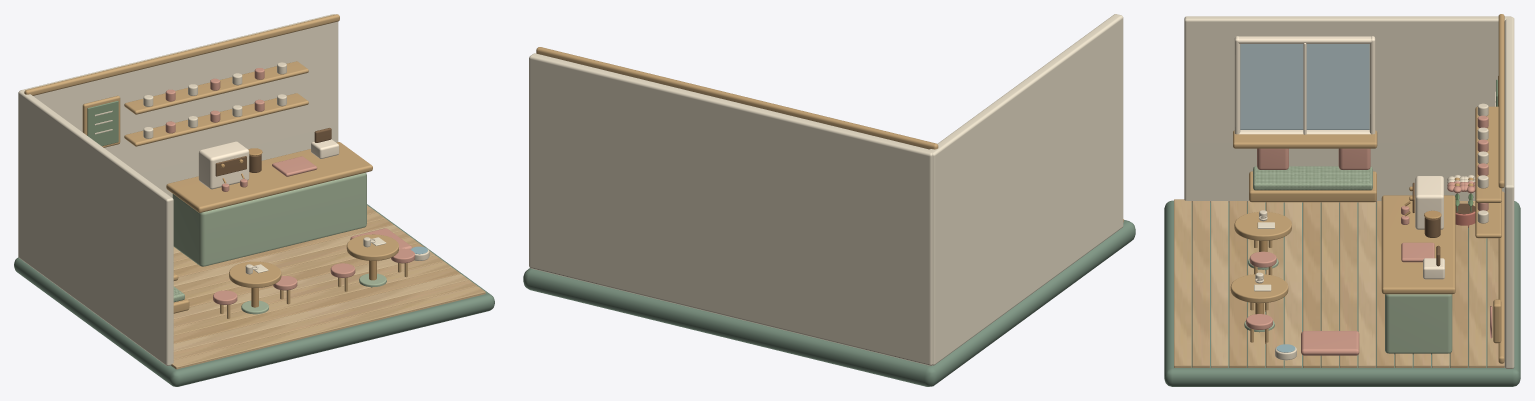
Rendered from cafe.glb.
The picture shows the model from 3 angles, left to right: view 1: azimuth 30°, elevation 25°; view 2: azimuth 150°, elevation 25°; view 3: azimuth 270°, elevation 25°; orthographic projection. The views are drawn at different scales.
Parts seen in each view (by area): view 1: shell--奶油墙面, bar--沙发鼠尾草绿, shell--地台侧面, shell--木地板0, shell--木地板1, shell--木地板2, bar--浅橡木, shell--木地板3, shelves--浅橡木, shell--浅橡木, tables--浅橡木, bar--米白木框 (+7 smaller); view 2: shell--奶油墙面, shell--地台侧面, shell--浅橡木; view 3: shell--奶油墙面, shell--地台侧面, window--窗外蓝, shell--木地板0, shell--木地板1, shell--木地板2, shell--木地板3, bar--浅橡木, bar--沙发鼠尾草绿, window--浅橡木, window--米白木框, tables--浅橡木 (+12 smaller).
Part boxes in pixels (x1=…): shell--奶油墙面: x1=18, y1=14, x2=338, y2=365; bar--沙发鼠尾草绿: x1=172, y1=172, x2=366, y2=266; shell--地台侧面: x1=14, y1=204, x2=494, y2=386; shell--木地板0: x1=171, y1=212, x2=485, y2=369; shell--木地板1: x1=173, y1=206, x2=476, y2=359; shell--木地板2: x1=173, y1=205, x2=468, y2=351; bar--浅橡木: x1=166, y1=142, x2=372, y2=212; shell--木地板3: x1=173, y1=218, x2=460, y2=343; shelves--浅橡木: x1=82, y1=61, x2=308, y2=147; shell--浅橡木: x1=24, y1=14, x2=339, y2=95; tables--浅橡木: x1=220, y1=234, x2=407, y2=318; bar--米白木框: x1=198, y1=139, x2=339, y2=189; shell--奶油墙面: x1=529, y1=14, x2=1123, y2=365; shell--地台侧面: x1=523, y1=220, x2=1135, y2=386; shell--浅橡木: x1=536, y1=47, x2=938, y2=149; shell--奶油墙面: x1=1184, y1=16, x2=1514, y2=368; shell--地台侧面: x1=1164, y1=200, x2=1520, y2=386; window--窗外蓝: x1=1240, y1=44, x2=1369, y2=129; shell--木地板0: x1=1174, y1=199, x2=1486, y2=367; shell--木地板1: x1=1192, y1=201, x2=1504, y2=367; shell--木地板2: x1=1211, y1=201, x2=1449, y2=367; shell--木地板3: x1=1229, y1=201, x2=1467, y2=367; bar--浅橡木: x1=1381, y1=195, x2=1455, y2=294; bar--沙发鼠尾草绿: x1=1385, y1=294, x2=1452, y2=354; window--浅橡木: x1=1233, y1=130, x2=1377, y2=202; window--米白木框: x1=1234, y1=36, x2=1375, y2=134; tables--浅橡木: x1=1230, y1=212, x2=1291, y2=343.
Bounding box in the file's own units: 6.7 × 3.68 × 5.8.
Materials: 21 (5 with a texture image).
